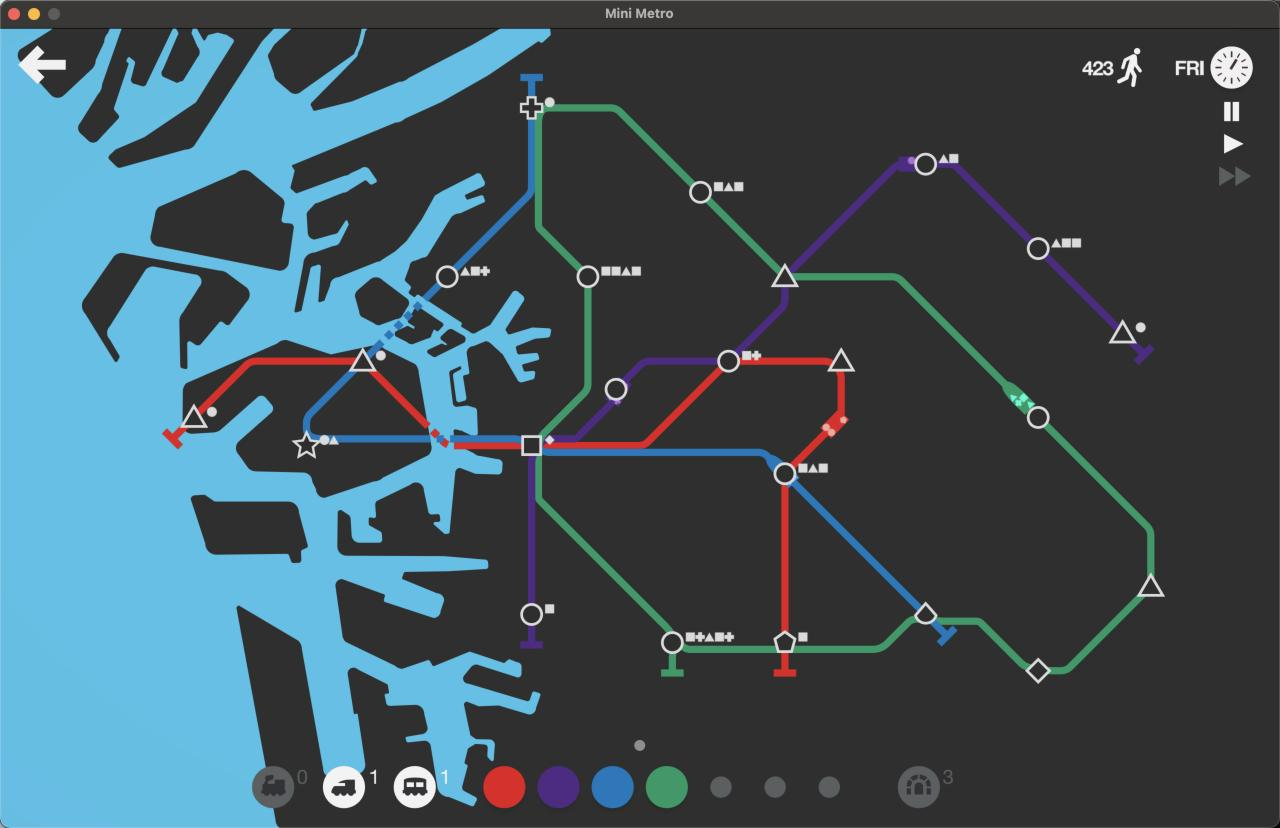CIRCLE: (604, 377, 629, 402), (519, 602, 544, 627), (689, 180, 713, 205), (773, 461, 797, 486), (1026, 236, 1050, 261), (435, 265, 459, 289), (576, 265, 600, 289), (717, 349, 741, 373), (1027, 406, 1051, 430), (660, 631, 684, 655), (914, 152, 937, 176)
CROSS: (518, 96, 546, 120)
GEM: (1025, 657, 1051, 684)
PENTAGON: (773, 630, 797, 653)
SQUARE: (521, 434, 542, 456)
STAR: (291, 432, 322, 459)
TRIANGLE: (181, 402, 210, 431), (826, 346, 856, 373), (1108, 318, 1138, 345), (770, 262, 798, 289), (349, 346, 376, 372), (1138, 573, 1164, 597)
WEDGE: (914, 601, 938, 625)
